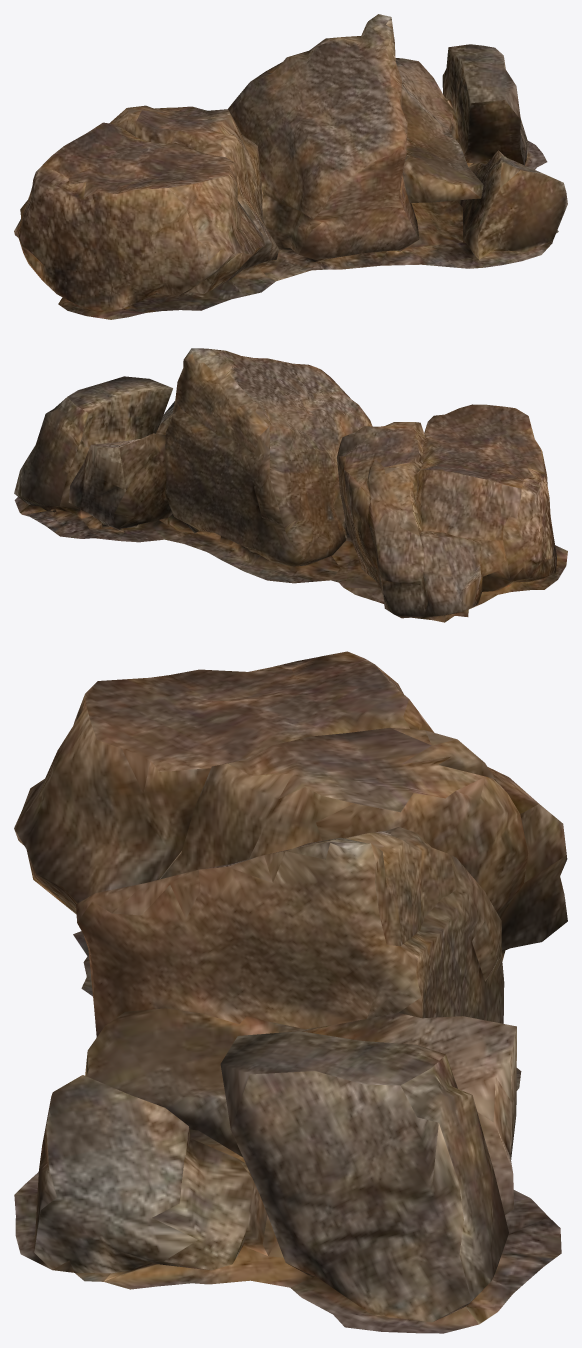
File: rock_boulder_02.glb
3 views of the same model, one above another, from view 1: azimuth 30°, elevation 25°; view 2: azimuth 150°, elevation 25°; view 3: azimuth 270°, elevation 25° (orthographic). The views are drawn at different scales.
Visible parts, largest first — view 1: rock_boulder_02; view 2: rock_boulder_02; view 3: rock_boulder_02.
Part boxes in pixels (left/top/right/bottom): rock_boulder_02: left=14, top=14, right=567, bottom=319; rock_boulder_02: left=14, top=348, right=567, bottom=622; rock_boulder_02: left=14, top=651, right=567, bottom=1333.
Bounding box in the file's own units: 2.52 × 0.8612 × 1.22.
Materials: 1 (1 with a texture image).
